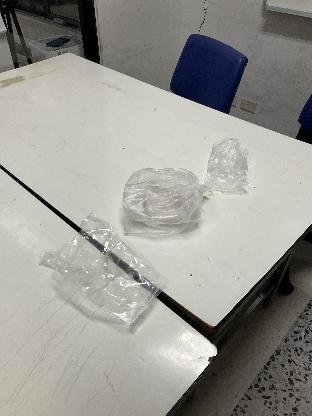Others: (46, 216, 158, 326), (121, 163, 209, 235), (198, 129, 264, 197)
